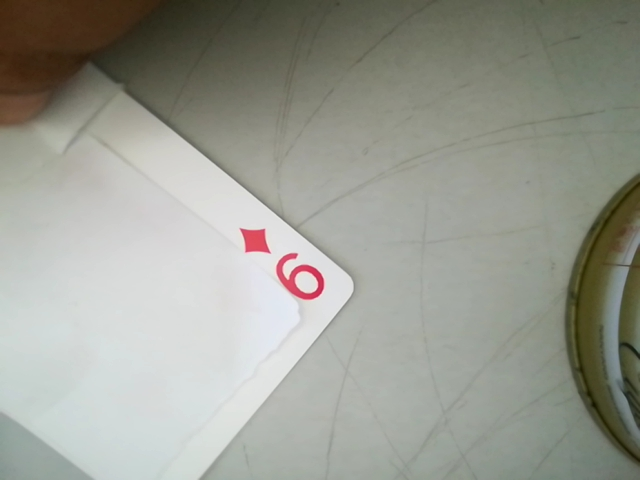fk 9: (233, 217, 340, 312)
